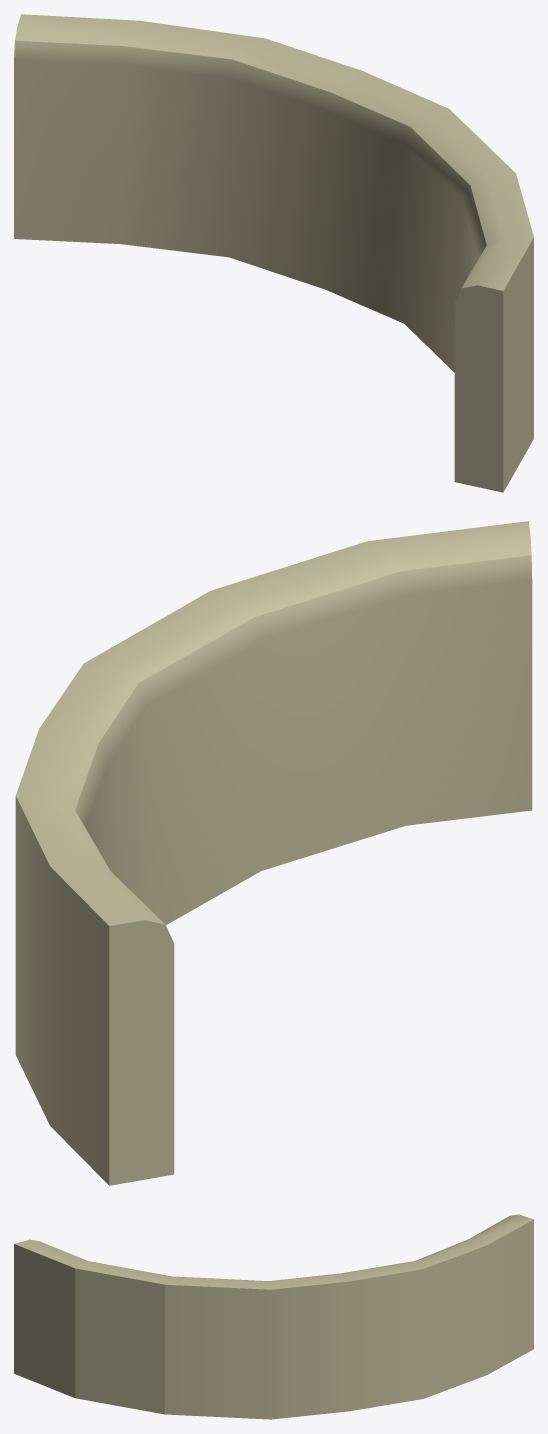
The model's file is SandWall.fbx.
The picture shows the model from 3 angles, top to bottom: view 1: azimuth 30°, elevation 25°; view 2: azimuth 150°, elevation 25°; view 3: azimuth 270°, elevation 25°; orthographic projection. The views are drawn at different scales.
Parts seen in each view (by area): view 1: pCube16; view 2: pCube16; view 3: pCube16.
Part boxes in pixels (x1,y1,x2,y2): pCube16: [14, 14, 533, 492]; pCube16: [15, 521, 532, 1185]; pCube16: [14, 1214, 533, 1419].
Bounding box in the file's own units: 4735 × 3608 × 13096.
